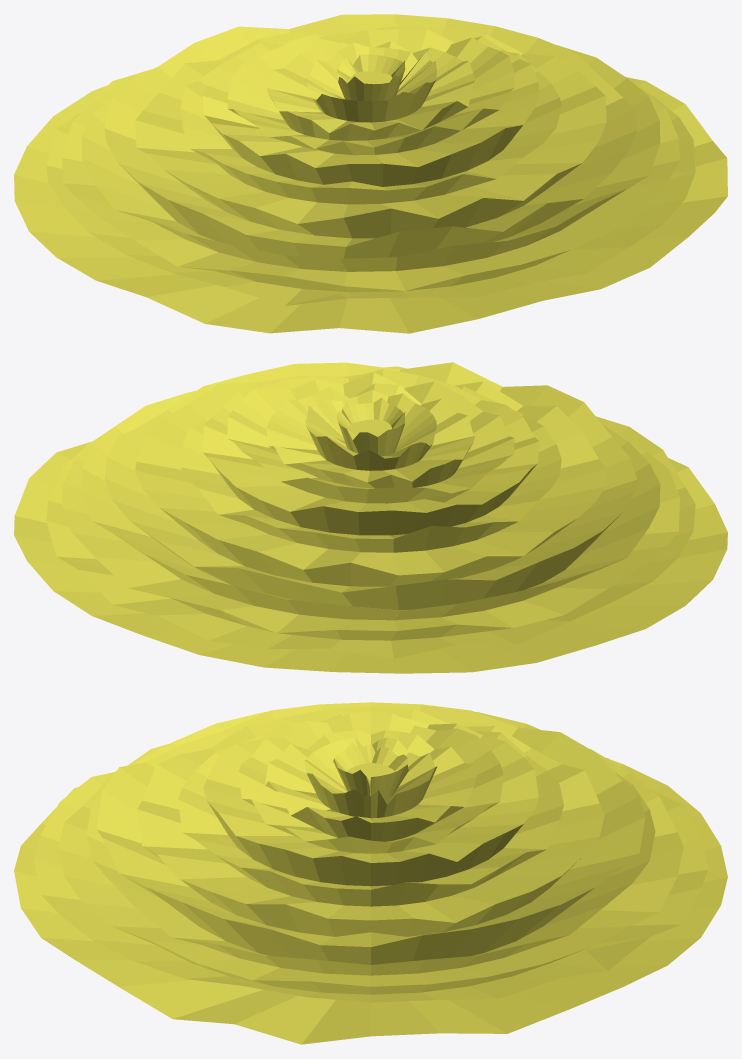
File: leafycupcoral.fbx
The picture shows the model from 3 angles, top to bottom: view 1: azimuth 30°, elevation 25°; view 2: azimuth 150°, elevation 25°; view 3: azimuth 270°, elevation 25°; orthographic projection. The views are drawn at different scales.
Parts seen in each view (by area): view 1: Cylinder; view 2: Cylinder; view 3: Cylinder.
Part boxes in pixels (box(x1,y1,x2,y2)): Cylinder: box(14, 14, 727, 333); Cylinder: box(14, 362, 727, 673); Cylinder: box(14, 702, 727, 1044).
Size of the model in its own units: 830 by 260 by 786.
